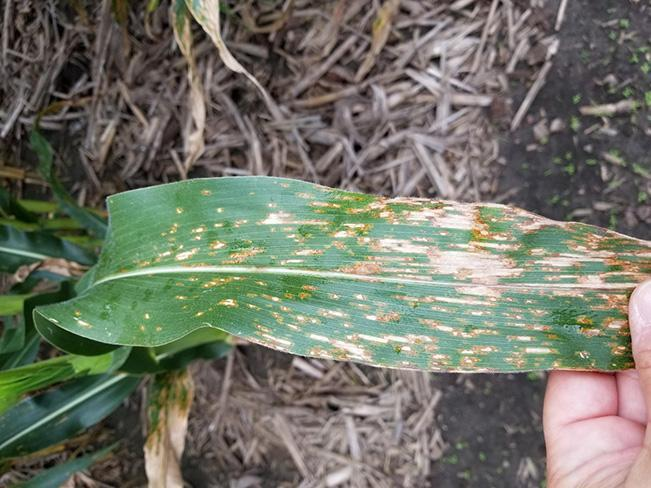Gray_Leaf_Spot: (262, 166, 651, 381), (173, 275, 260, 348), (139, 234, 262, 268), (137, 220, 262, 235), (130, 308, 166, 334), (71, 308, 91, 330), (208, 201, 231, 217), (193, 184, 213, 197), (167, 203, 183, 217)
